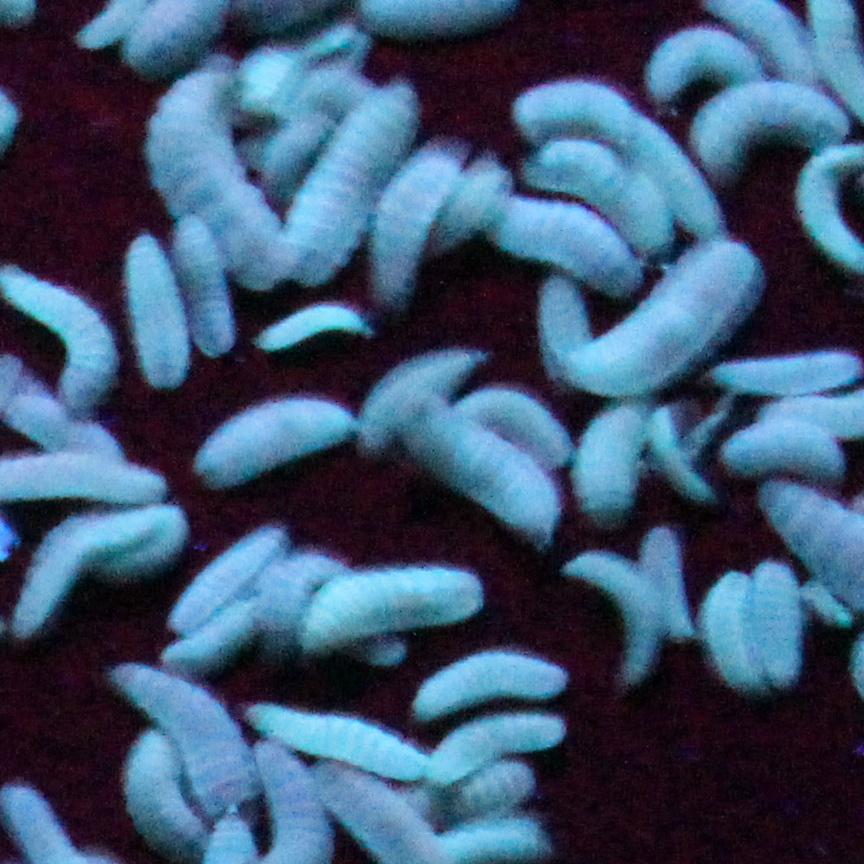larve: (148, 58, 291, 272), (568, 240, 753, 392), (291, 83, 428, 281), (112, 660, 250, 813), (21, 501, 171, 633), (423, 408, 566, 538), (5, 270, 128, 415), (528, 133, 678, 249), (296, 558, 489, 647), (609, 108, 734, 235), (200, 399, 357, 490), (257, 708, 437, 785), (114, 226, 193, 395), (371, 151, 462, 297), (507, 197, 637, 299), (350, 354, 484, 447), (578, 551, 666, 683), (421, 649, 580, 722), (166, 533, 284, 631), (128, 722, 209, 863), (703, 85, 846, 163), (428, 717, 562, 792), (630, 517, 700, 642), (257, 540, 353, 629), (175, 224, 241, 351), (464, 388, 571, 460), (518, 76, 634, 142), (753, 565, 814, 688), (646, 392, 707, 510), (641, 29, 768, 85), (582, 406, 646, 510), (171, 597, 266, 667), (700, 565, 750, 692), (257, 306, 373, 358), (728, 426, 839, 474), (455, 758, 534, 813), (446, 163, 503, 238), (803, 583, 859, 631), (441, 824, 564, 845)
